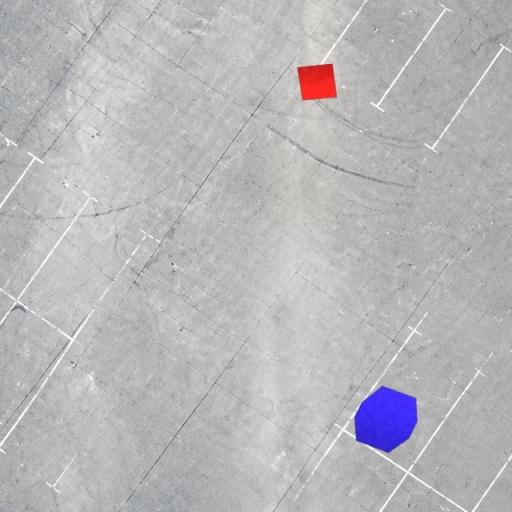RED_SQUARE: (296, 63, 338, 101)
